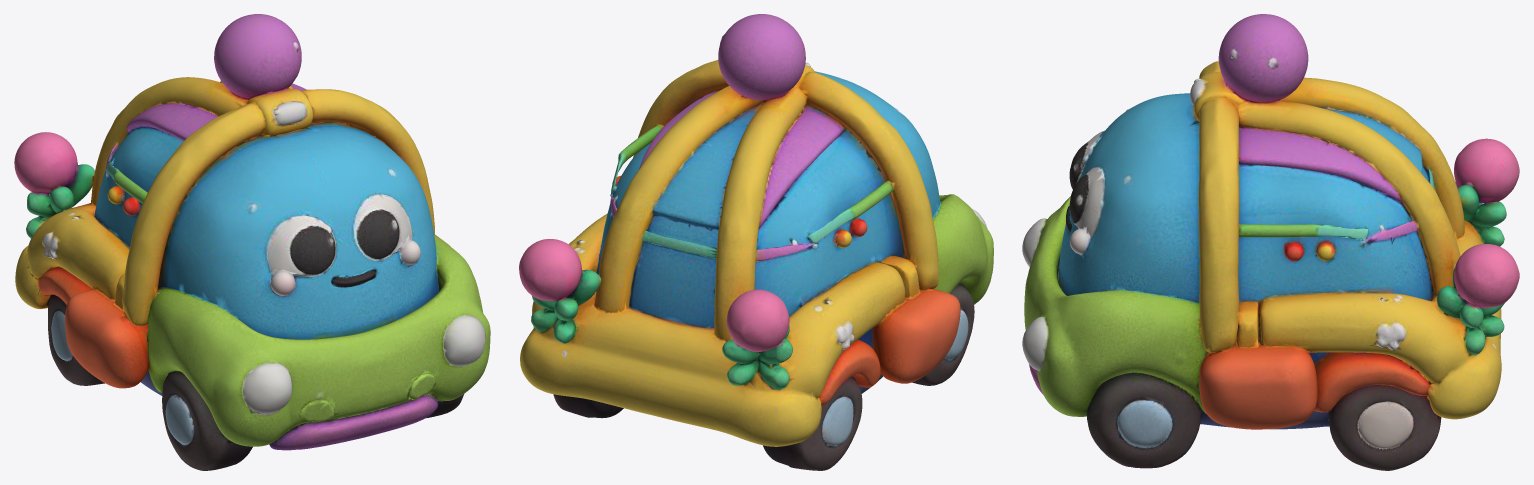
File: env_nest_car_01.glb
The picture shows the model from 3 angles, left to right: view 1: azimuth 30°, elevation 25°; view 2: azimuth 150°, elevation 25°; view 3: azimuth 270°, elevation 25°; orthographic projection. The views are drawn at different scales.
Visible parts, largest first — view 1: tripo_node_8db79260-11c0-49f3-838d-eac8c1dfb8a7; view 2: tripo_node_8db79260-11c0-49f3-838d-eac8c1dfb8a7; view 3: tripo_node_8db79260-11c0-49f3-838d-eac8c1dfb8a7.
Boxes of the visible parts, x1=… form: tripo_node_8db79260-11c0-49f3-838d-eac8c1dfb8a7: x1=14, y1=14, x2=490, y2=470; tripo_node_8db79260-11c0-49f3-838d-eac8c1dfb8a7: x1=519, y1=14, x2=993, y2=470; tripo_node_8db79260-11c0-49f3-838d-eac8c1dfb8a7: x1=1022, y1=14, x2=1519, y2=470.
Bounding box in the file's own units: 1.39 × 1.4 × 1.62.
Materials: 1 (1 with a texture image).
